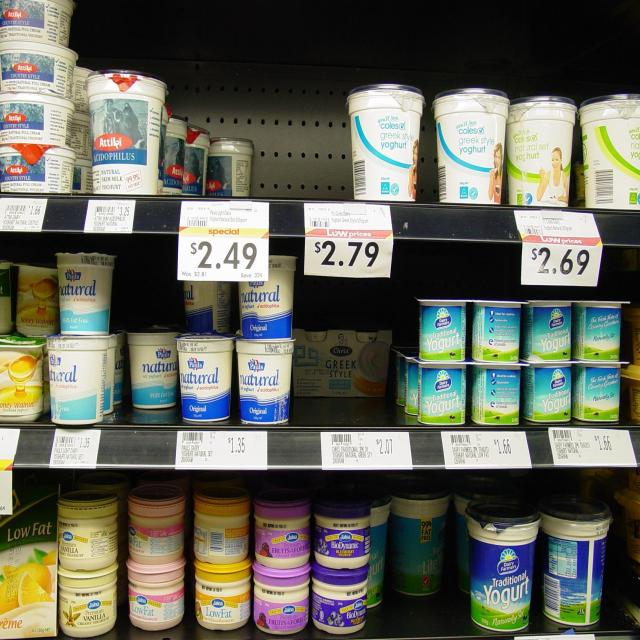void: (251, 10, 350, 203), (291, 392, 412, 431)
